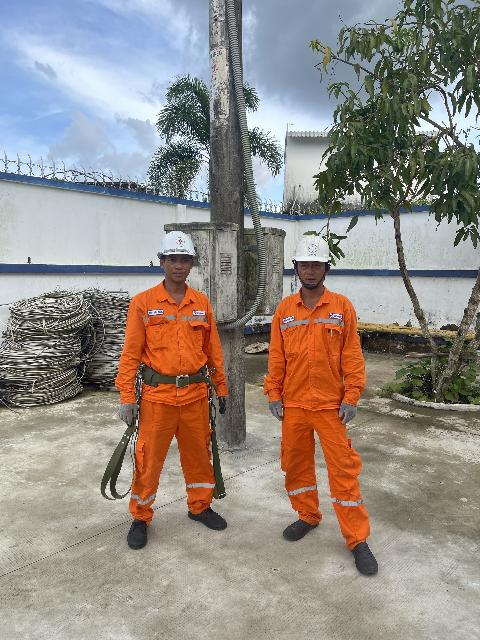gloves: (111, 396, 145, 430), (332, 395, 366, 427), (264, 386, 292, 423), (210, 389, 234, 411)
harness: (131, 357, 218, 394)
helmet: (286, 231, 349, 274), (151, 228, 205, 261)
shoes: (183, 499, 240, 534), (275, 509, 325, 545), (344, 537, 385, 579), (123, 513, 160, 551)
